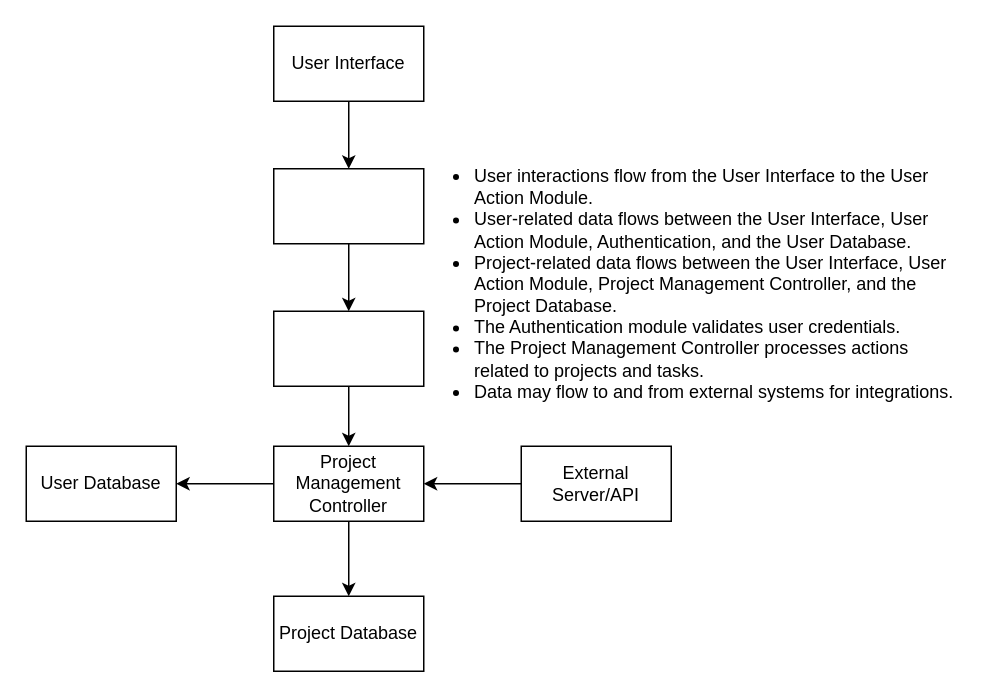
Some shapes in this 993 by 698 pixel diagram are drawn without their labels. The shapes that lost their labels are listed below. From the top down, each one's centre as x and y in pixels, then its label:
At point 348,205: "User Action Module".
At point 348,348: "Authentication".
